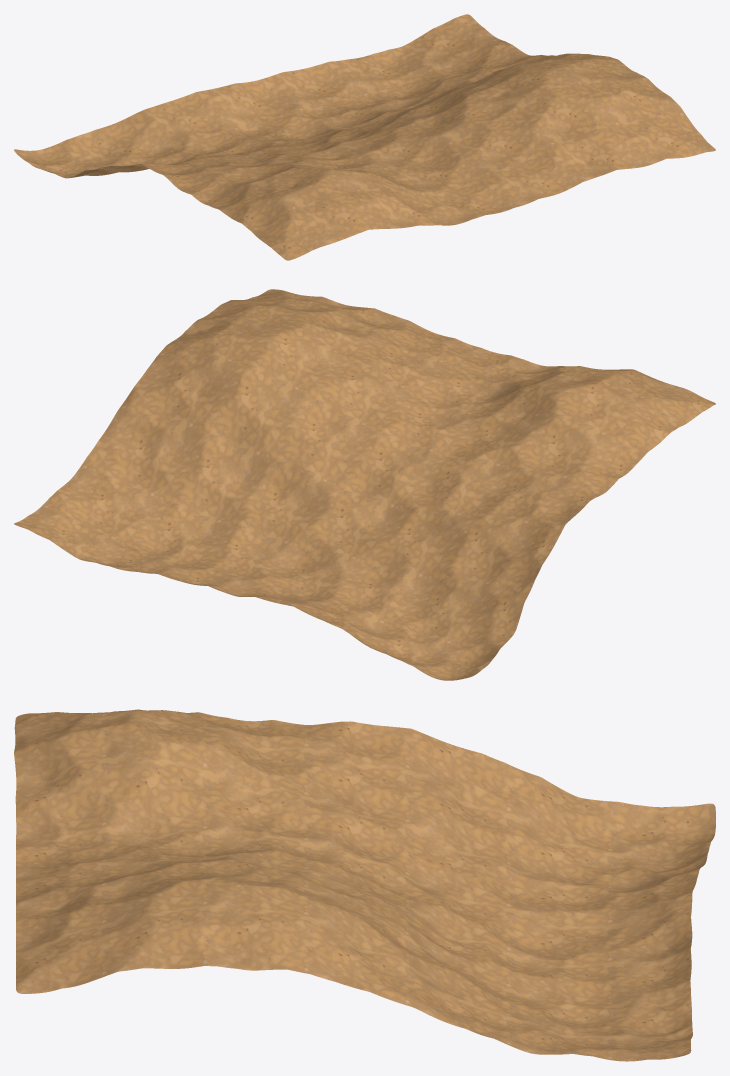
Rendered from SandMap.glb.
3 renders of one model, top to bottom at view 1: azimuth 30°, elevation 25°; view 2: azimuth 150°, elevation 25°; view 3: azimuth 270°, elevation 25°, orthographic. The views are drawn at different scales.
Parts seen in each view (by area): view 1: Plane; view 2: Plane; view 3: Plane.
Boxes of the visible parts, x1,y1,x2,y2 form: Plane: (14, 14, 715, 260); Plane: (14, 289, 715, 680); Plane: (14, 709, 715, 1061).
Size of the model in its own units: 16.67 by 4.51 by 16.65.
Materials: 1 (1 with a texture image).
